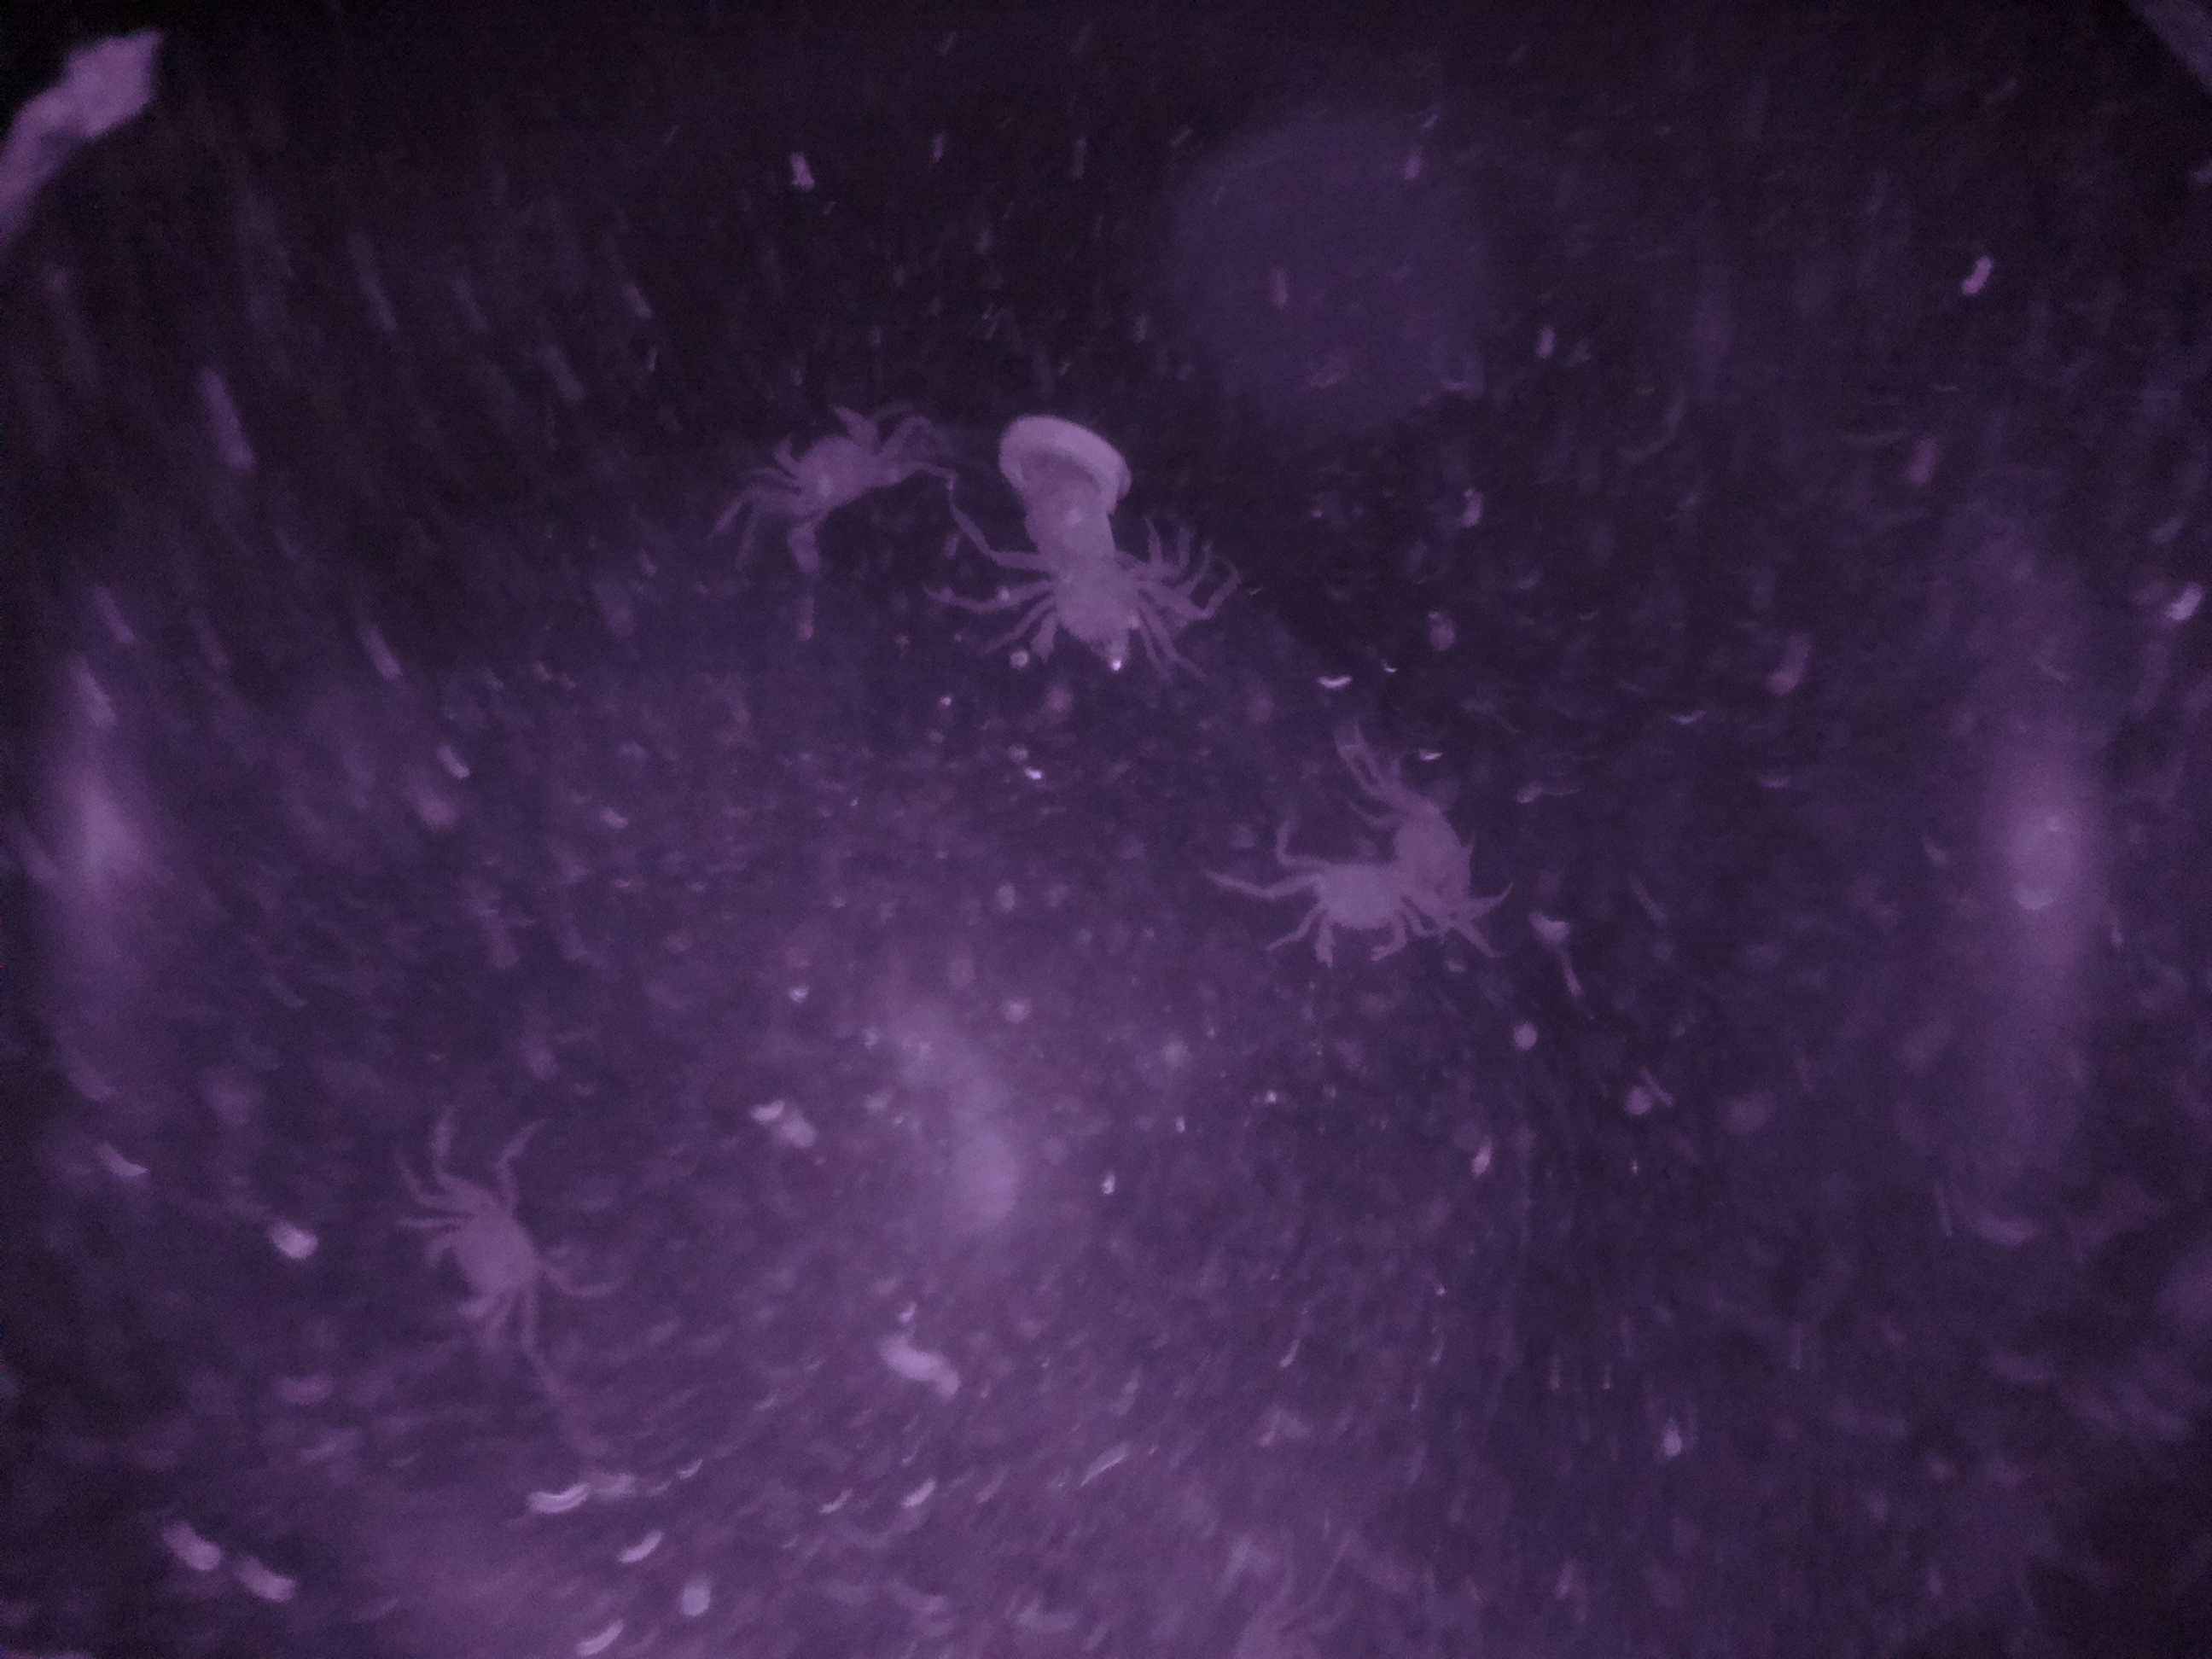Crab: (732, 373, 939, 577), (399, 1164, 596, 1363), (1247, 838, 1449, 976)
